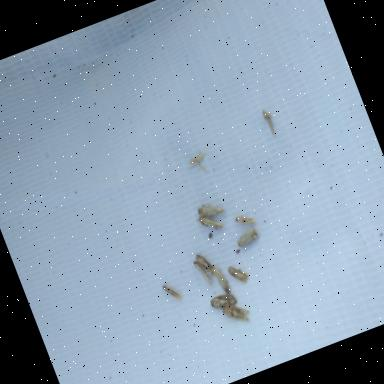pbw: (220, 300, 254, 328), (234, 224, 264, 250), (207, 289, 238, 313), (210, 264, 232, 296), (197, 209, 224, 235), (227, 261, 251, 287), (192, 257, 212, 288), (194, 250, 216, 278), (196, 200, 225, 220), (162, 280, 182, 303), (234, 210, 256, 230)
